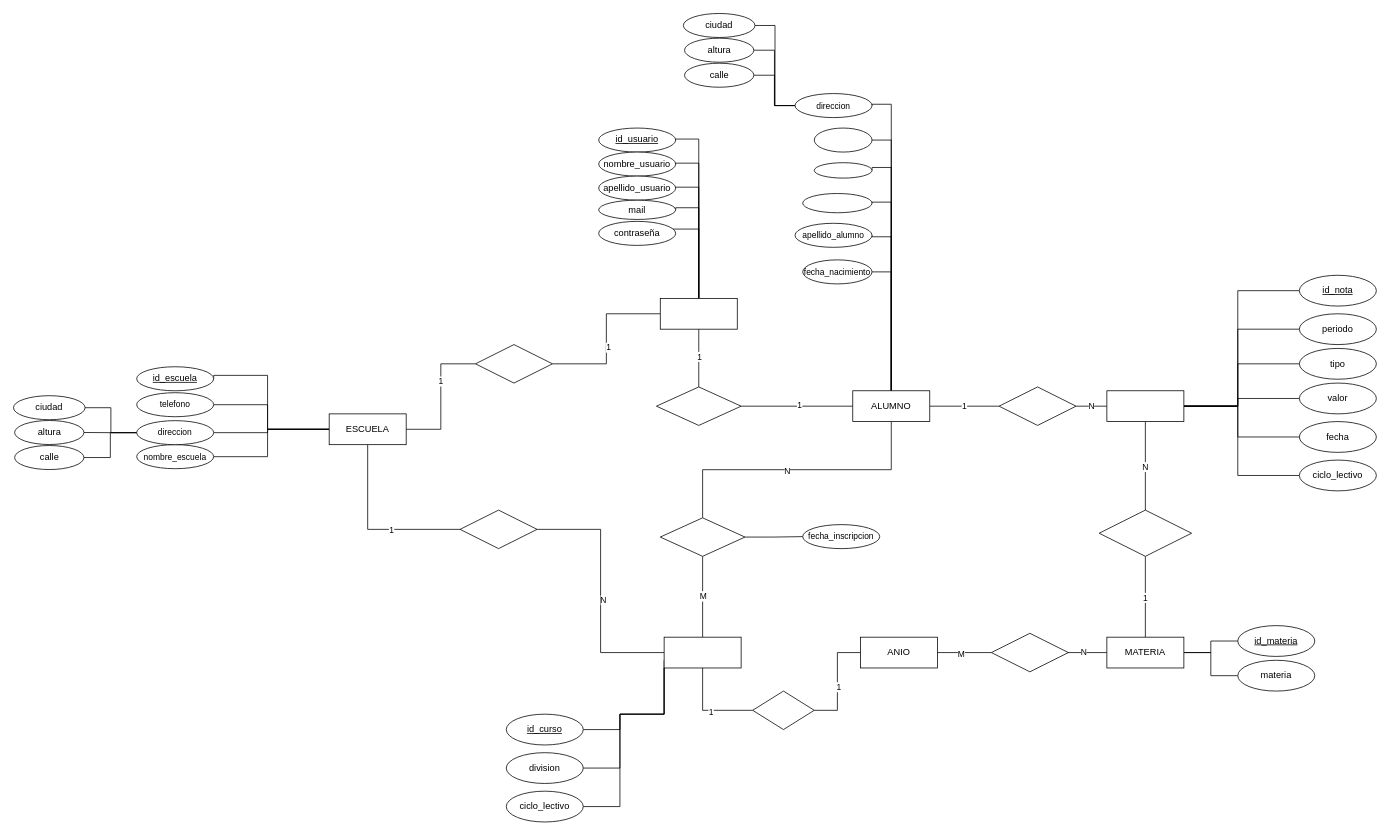
Some shapes in this 1390 by 835 pixel diagram are drawn without their labels. The shapes that lost their labels are listed below. From the top down, each one's centre as x and y in pixels, then its label:
pixel 843 139: id_alumno
pixel 843 170: dni
pixel 837 203: nombre_alumno
pixel 698 313: USUARIO
pixel 513 363: pertenece
pixel 698 405: tiene perfil
pixel 1037 405: obtiene
pixel 1145 406: NOTA
pixel 498 529: organiza
pixel 702 536: se inscribe
pixel 1145 532: Se califica en
pixel 702 652: CURSO
pixel 1029 652: incluye
pixel 783 710: se divide en
